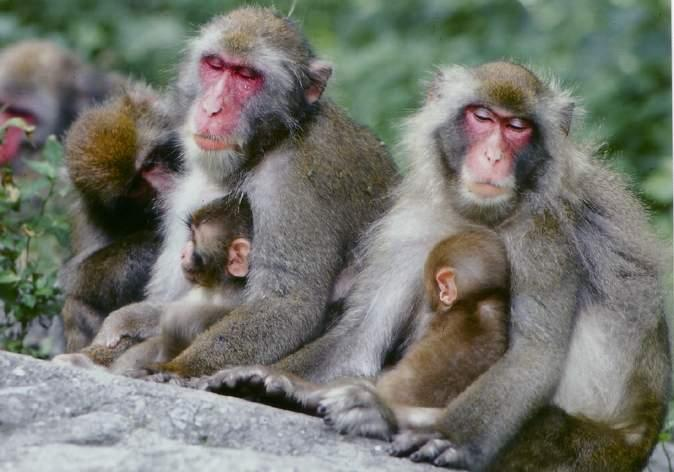monkey: (67, 7, 404, 383)
